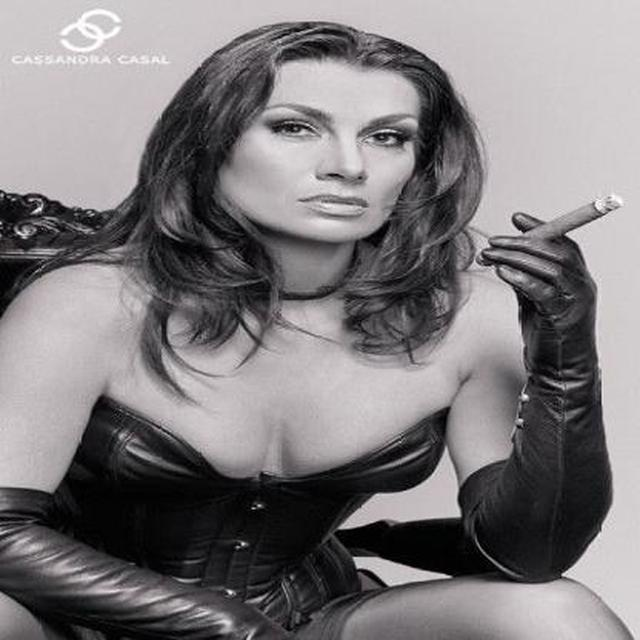smoking: (475, 195, 623, 267)
